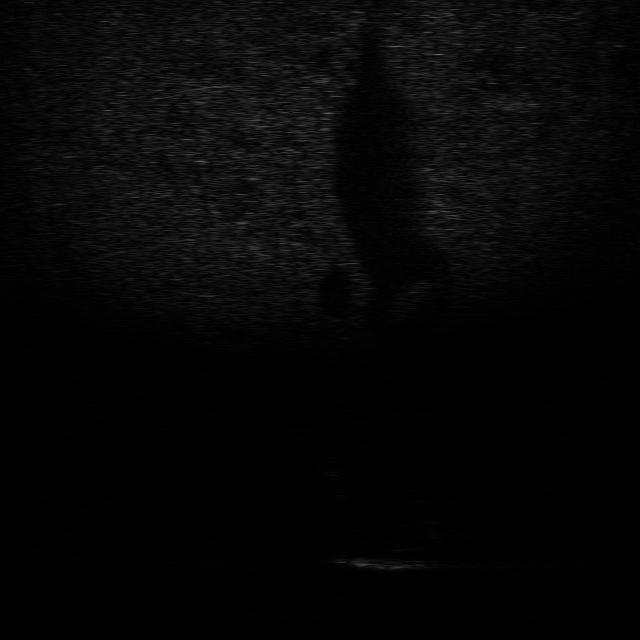ball: (310, 452, 355, 480)
metal bucket: (334, 543, 445, 573)
tyre: (371, 496, 450, 529)
